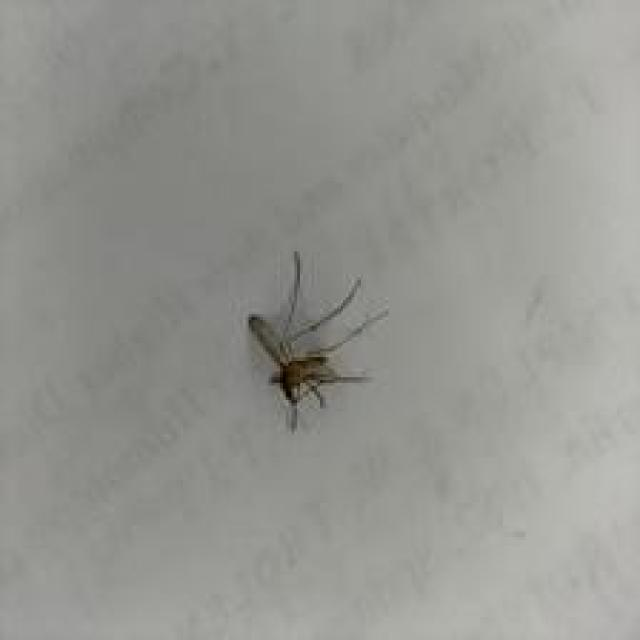Culex: (245, 250, 388, 433)
